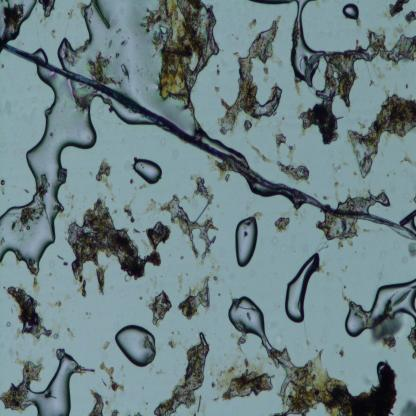Air bubble: (0, 79, 97, 276), (58, 0, 181, 108), (342, 277, 416, 340), (20, 351, 79, 415), (284, 252, 321, 322), (229, 294, 271, 352), (291, 1, 321, 80), (115, 322, 156, 368), (0, 0, 36, 46), (235, 215, 258, 268), (334, 189, 392, 210), (319, 214, 361, 241), (133, 157, 163, 185), (343, 2, 360, 20)
Background material: (295, 32, 416, 144), (66, 200, 170, 298), (142, 0, 222, 102), (216, 17, 284, 134), (280, 348, 398, 415), (348, 92, 416, 177), (154, 332, 209, 415), (166, 195, 219, 260), (209, 358, 274, 400), (6, 284, 52, 340), (182, 276, 213, 320), (371, 324, 403, 354), (275, 160, 311, 184), (149, 290, 172, 327), (99, 360, 123, 395), (0, 382, 25, 413), (96, 157, 113, 195), (191, 174, 213, 203), (86, 386, 106, 415), (249, 144, 274, 164), (270, 214, 292, 235), (387, 0, 410, 19), (273, 130, 289, 153), (399, 398, 416, 416), (63, 322, 77, 342), (124, 199, 136, 222), (407, 325, 416, 354), (246, 14, 258, 32), (401, 11, 416, 24), (54, 256, 69, 269), (51, 296, 62, 312), (241, 119, 253, 132), (99, 338, 112, 350), (407, 240, 416, 257), (338, 344, 349, 356)
Cotton: (3, 43, 414, 236)
